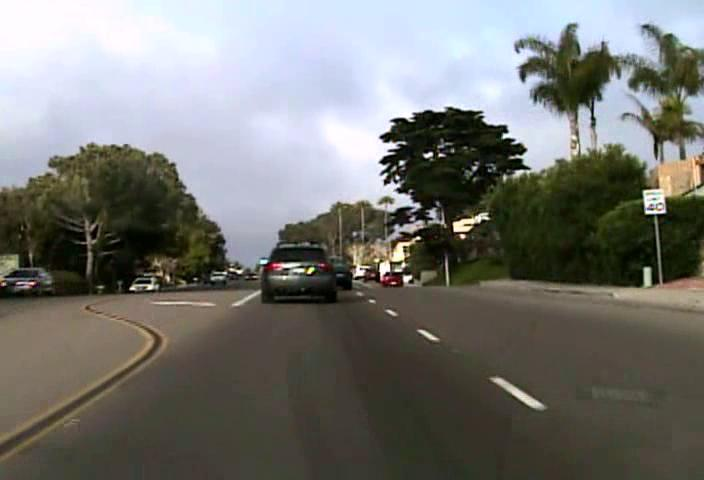speedLimit40: (642, 187, 666, 215)
